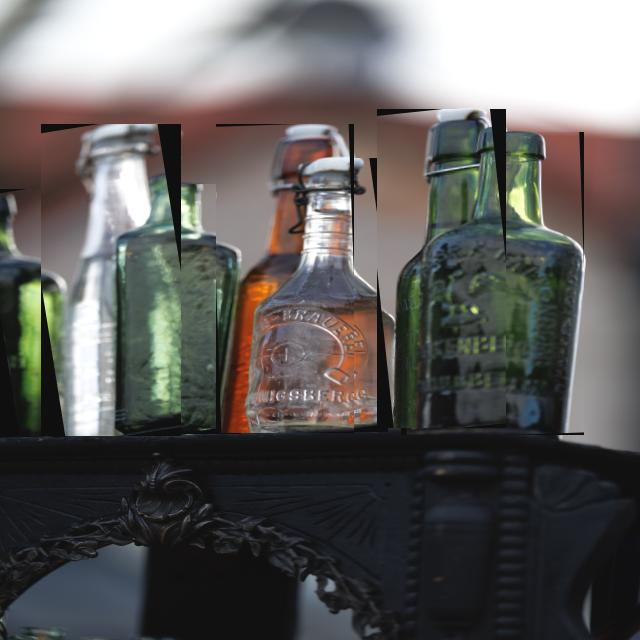Bottle: (401, 132, 584, 434), (42, 125, 181, 435), (217, 125, 353, 432), (378, 109, 506, 428), (242, 159, 388, 431), (94, 184, 241, 434), (0, 190, 65, 436)
